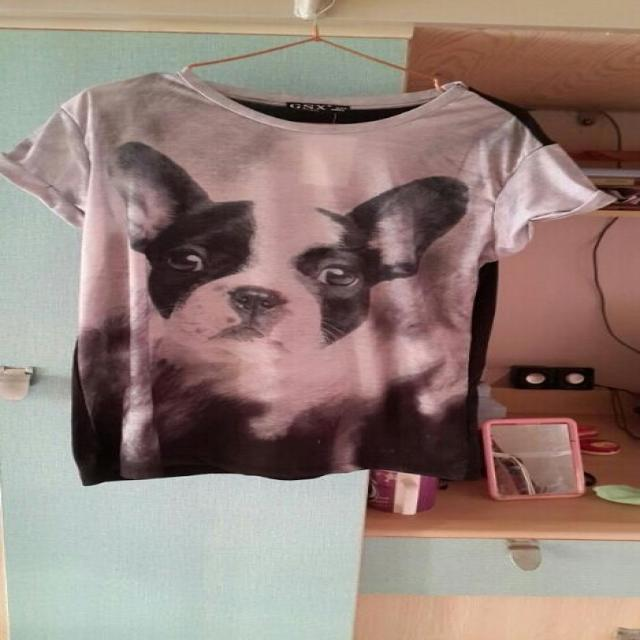short sleeve top: (3, 69, 618, 488)
